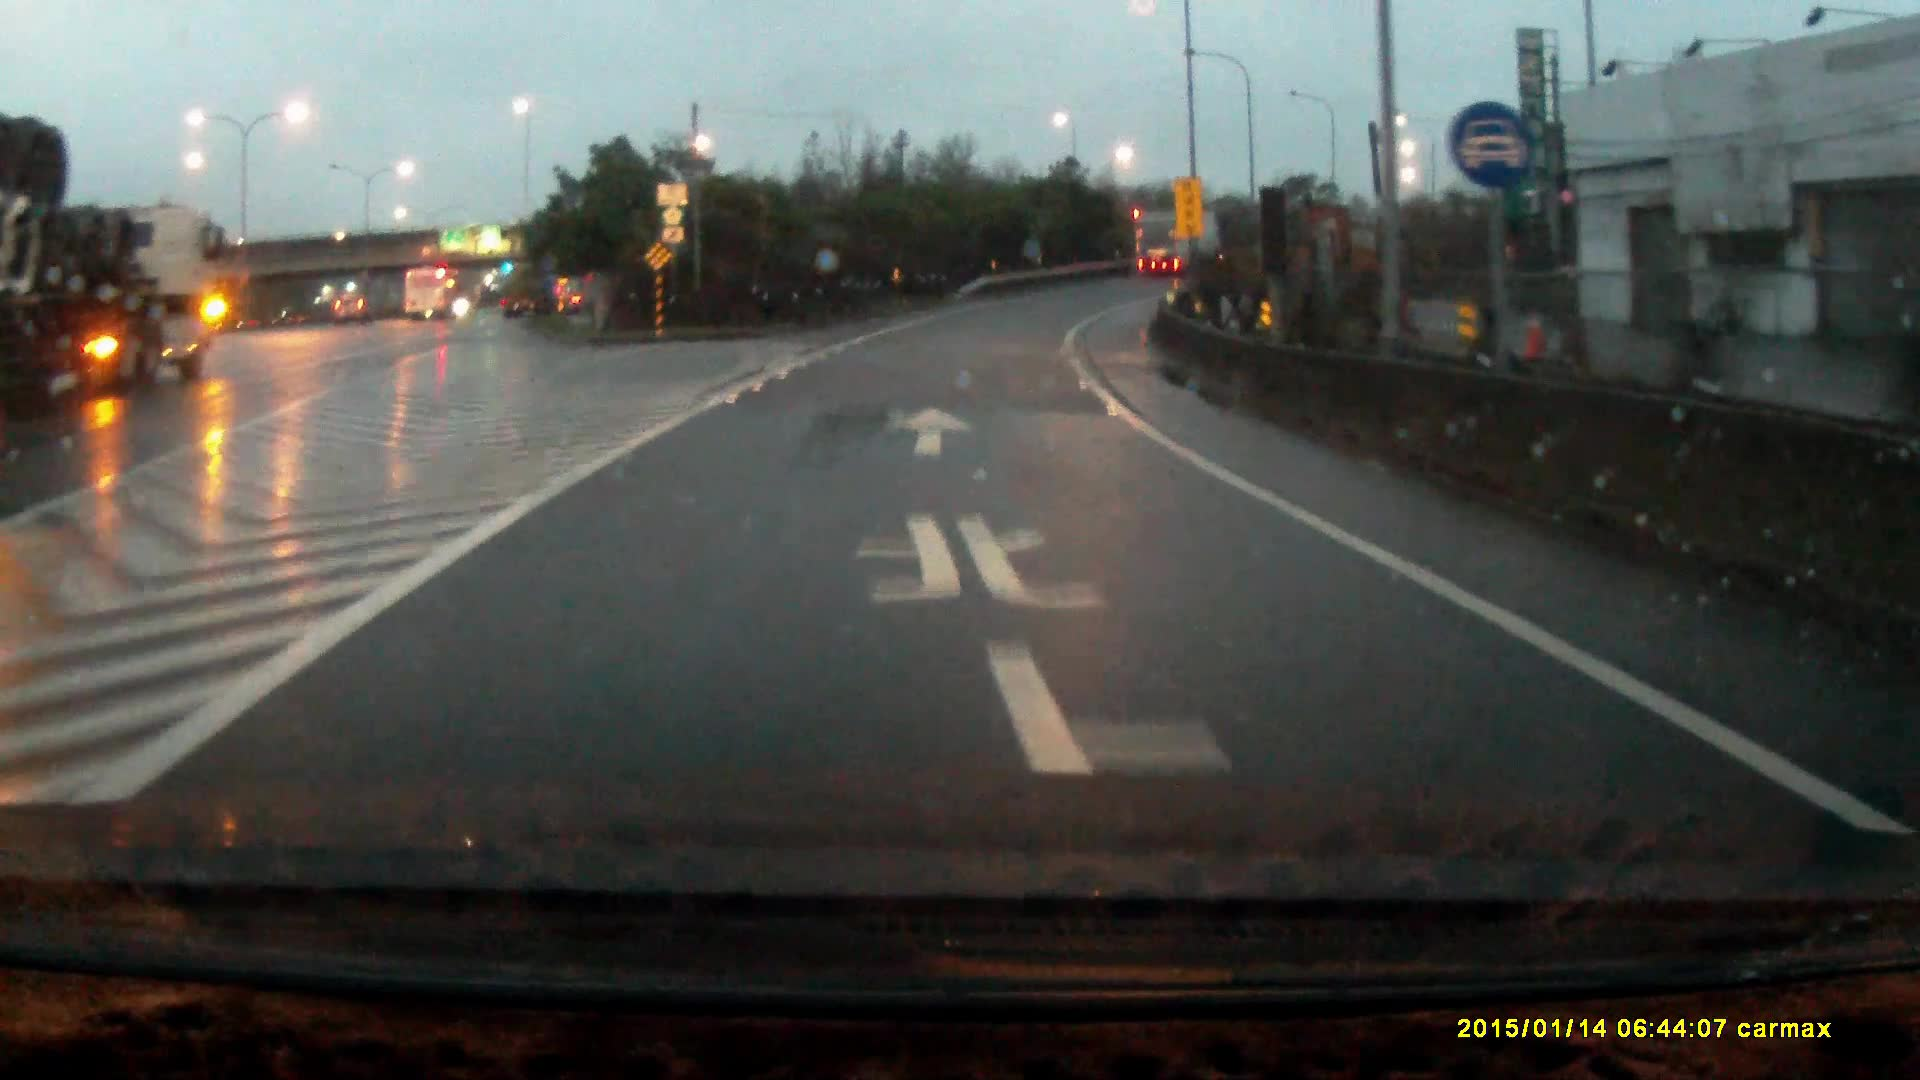vehicle: (1, 127, 223, 396), (1133, 210, 1226, 280), (405, 268, 462, 320), (334, 294, 371, 324)
